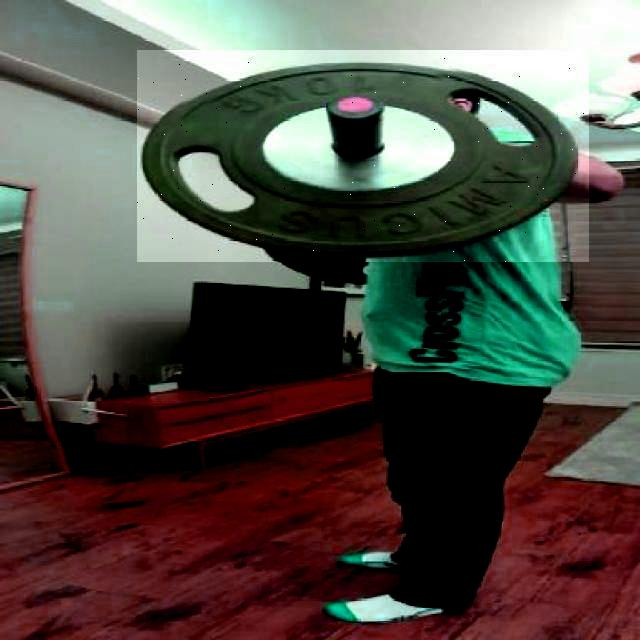barbell: (138, 50, 592, 262)
